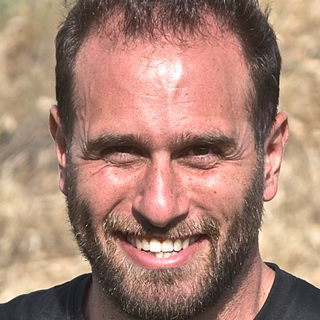eye: (92, 139, 154, 162), (175, 141, 224, 164)
